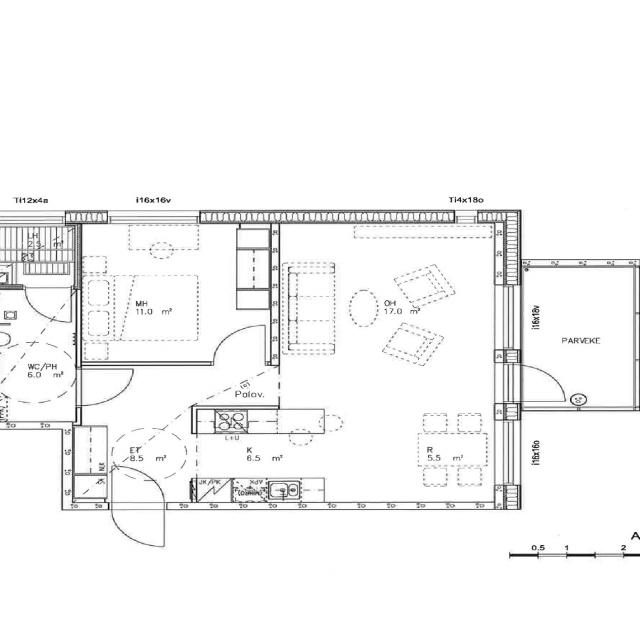door: (112, 502, 164, 546), (112, 466, 164, 510), (503, 365, 564, 401), (76, 369, 133, 405), (213, 326, 264, 365), (25, 286, 71, 322)
